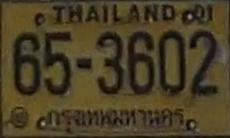0: (158, 30, 185, 94)
2: (189, 30, 217, 94)
3: (96, 31, 123, 94)
5: (44, 31, 72, 95)
6: (12, 31, 40, 94), (127, 30, 154, 94)
BKK: (45, 105, 187, 133)
